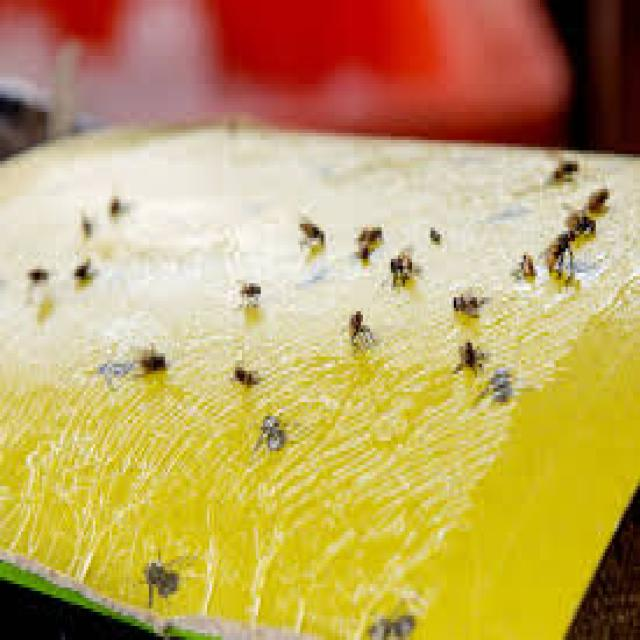fruit fly: (125, 532, 198, 616), (242, 399, 300, 472), (533, 217, 582, 287), (379, 234, 426, 294), (442, 276, 493, 329), (330, 297, 377, 353), (286, 199, 328, 259), (472, 353, 516, 409), (445, 322, 484, 384), (130, 329, 168, 381), (358, 605, 419, 637), (542, 143, 582, 189), (226, 266, 265, 311), (223, 349, 260, 392), (63, 245, 98, 290), (577, 175, 612, 220), (349, 206, 386, 245), (98, 182, 126, 224), (72, 199, 96, 245), (21, 252, 49, 290), (346, 231, 374, 269), (421, 214, 442, 248)
